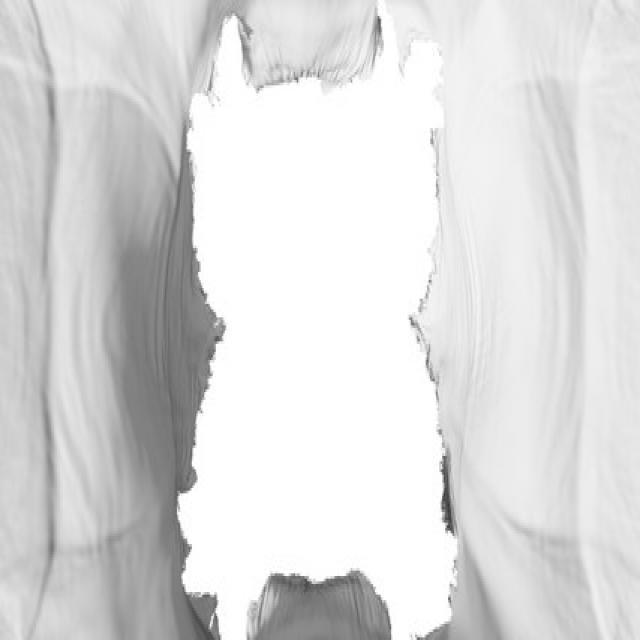Hole: (179, 17, 457, 640)
